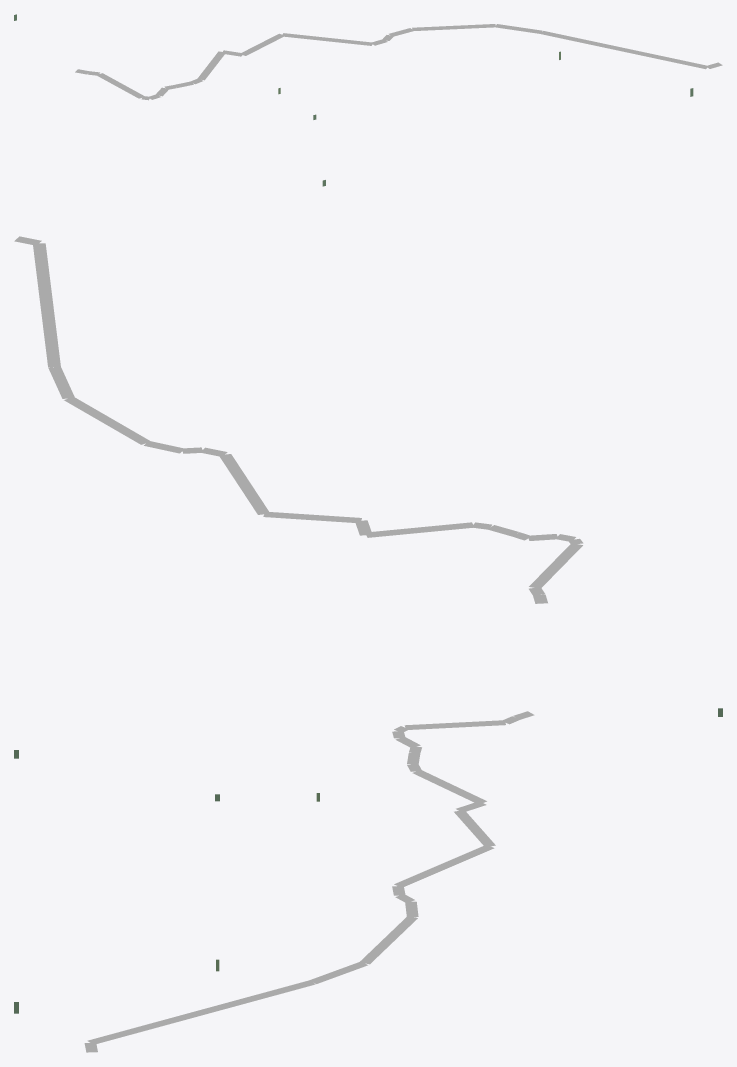
The picture shows the model from 3 angles, top to bottom: view 1: azimuth 30°, elevation 25°; view 2: azimuth 150°, elevation 25°; view 3: azimuth 270°, elevation 25°; orthographic projection. The views are drawn at different scales.
Bounding box in the file's own units: 483 × 8.58 × 423.
